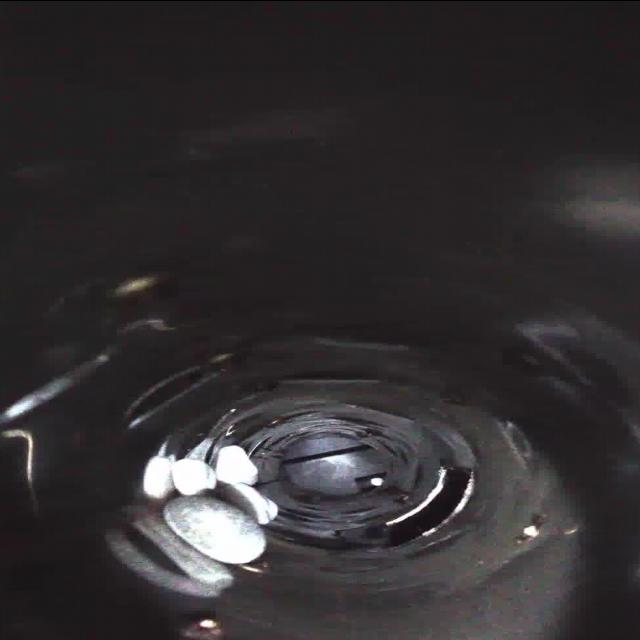hole: (381, 462, 485, 550)
